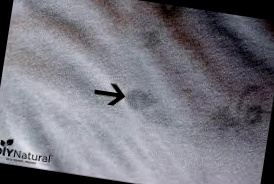oil: (120, 83, 178, 132)
